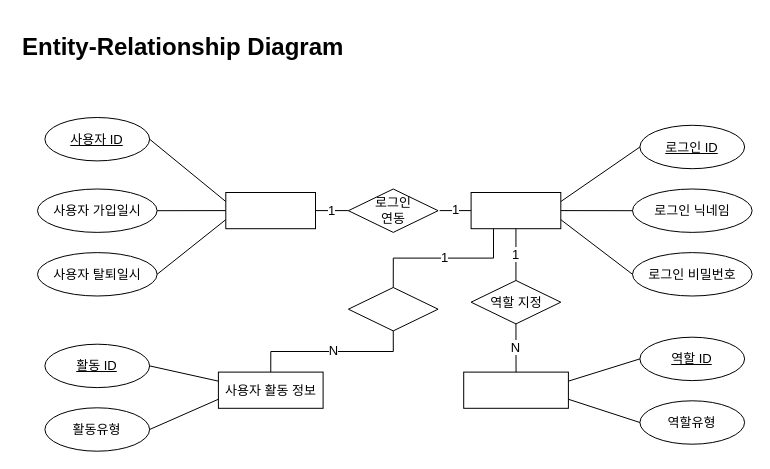
Image size: 770x469. Some labels were removed from this diagram. The shapes that lost their labels are listed below. From the top down, each one's box as (x1, y1, x2, y2) in pixels, then its label:
(225, 192, 316, 229): 사용자 정보
(470, 192, 561, 229): 로그인 정보
(347, 286, 438, 331): 활동 기록
(463, 371, 568, 408): 사용자 역할 정보
